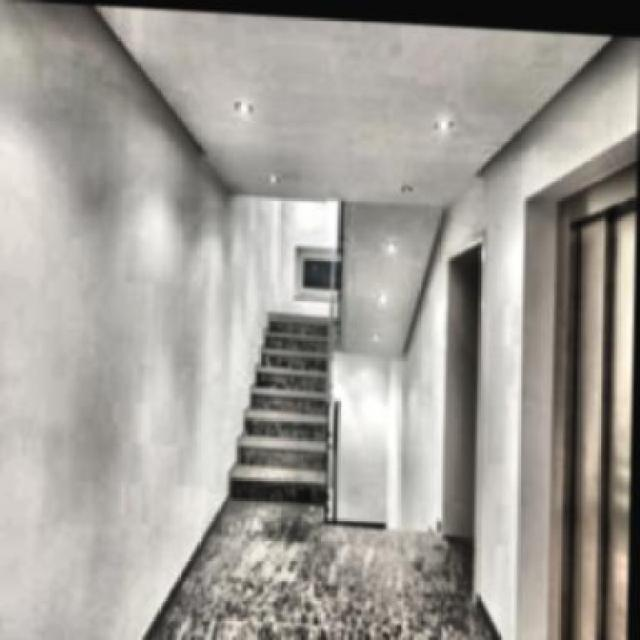stair: (226, 291, 337, 500)
